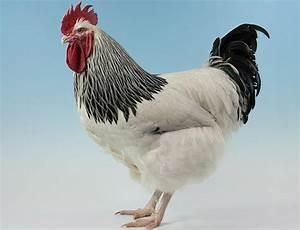hen: (59, 0, 270, 229)
